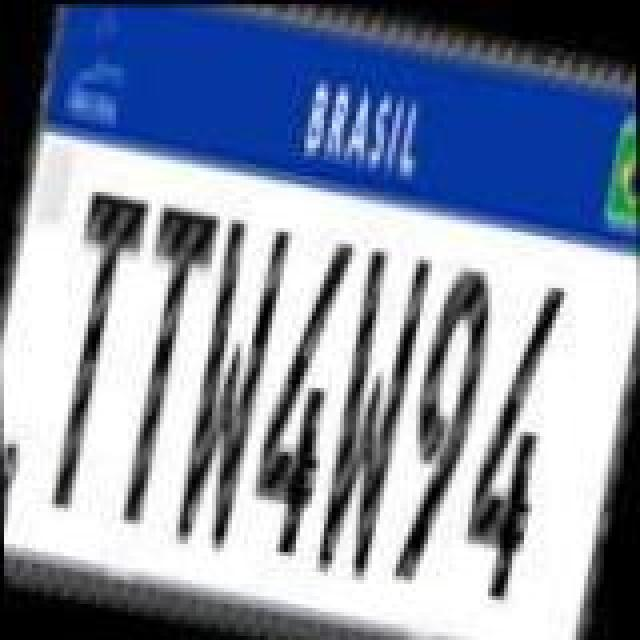4: (446, 264, 582, 604), (234, 220, 370, 556)
9: (374, 252, 510, 596)
T: (94, 194, 226, 534), (22, 182, 154, 518)
W: (158, 206, 298, 554), (302, 238, 438, 586)
